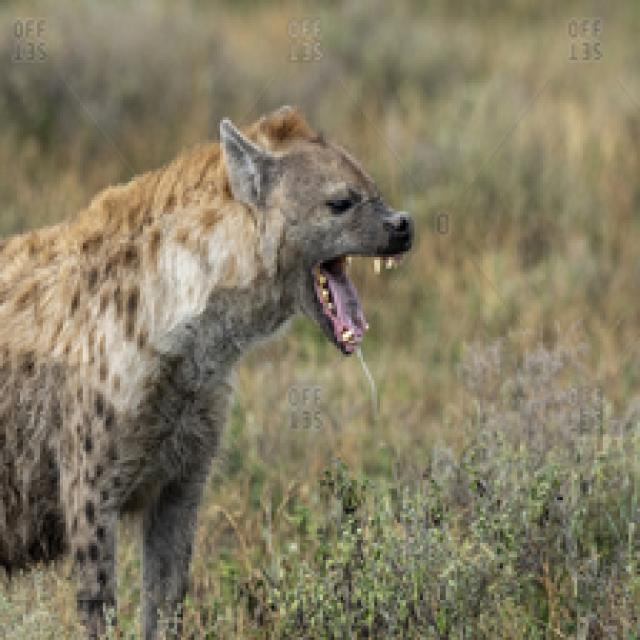hyena: (0, 86, 444, 629)
